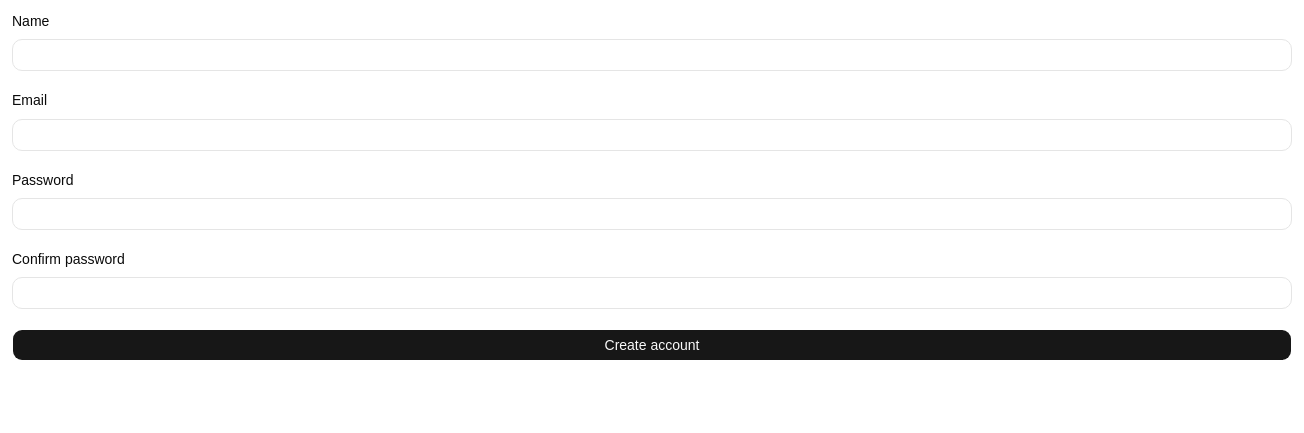
SignUpForm › rejects short and mismatched passwords
Type "Ada" into the field labelled "Name". click: (652,55)
box: [12, 39, 1292, 71]
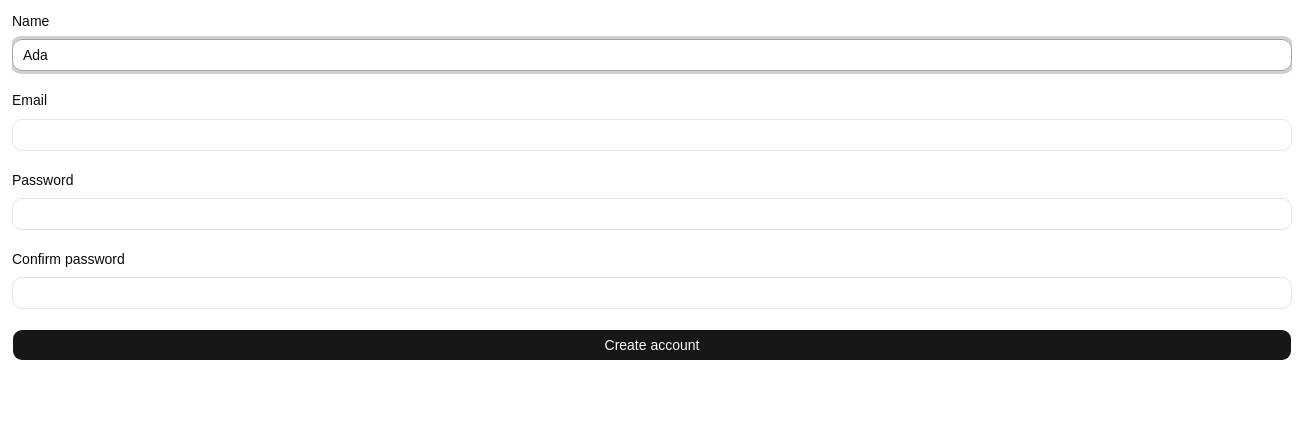
Type "ada@example.com" into the field labelled "Email". click: (652,134)
box: [12, 118, 1292, 150]
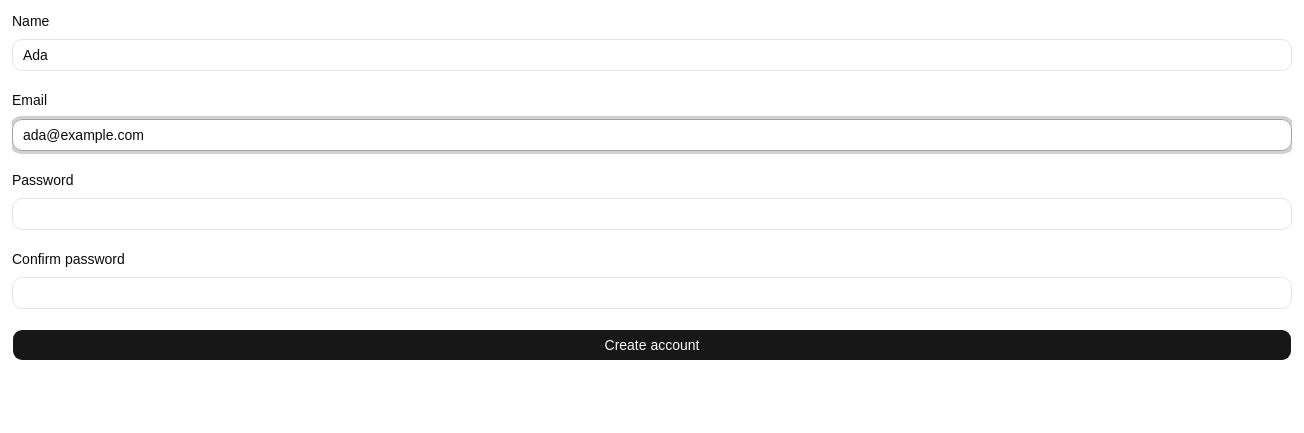
Type "short" into the password field labelled "Password". click: (652,214)
box: [12, 198, 1292, 230]
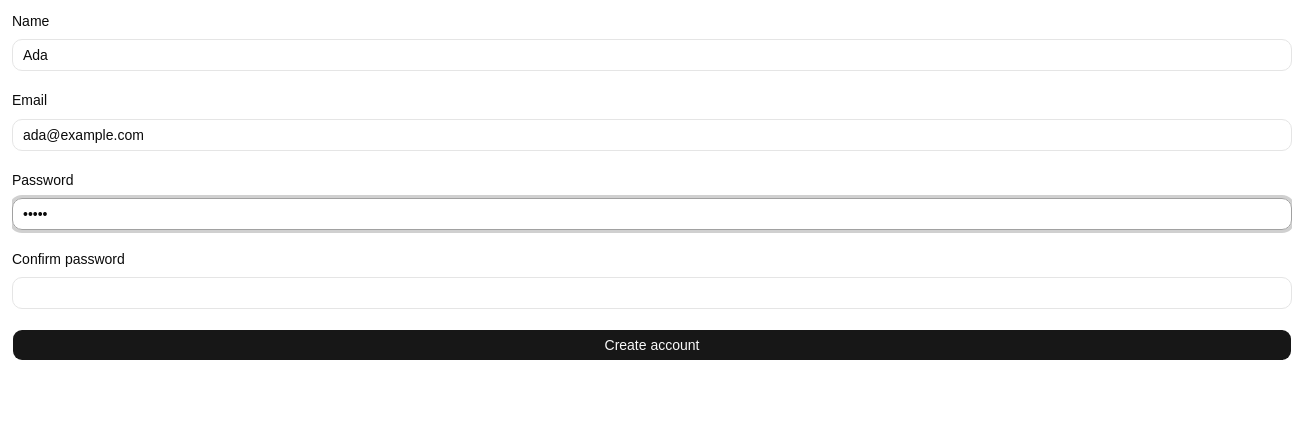
Type "other" into the password field labelled "Confirm password". click: (652,293)
box: [12, 277, 1292, 309]
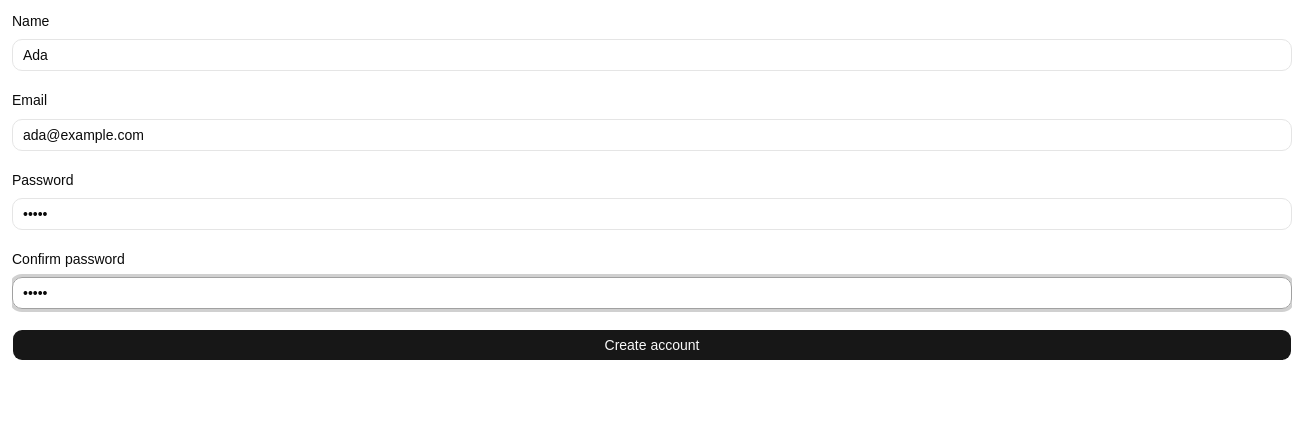
Click the button "Create account". click: (652,345)
box: [12, 329, 1292, 361]
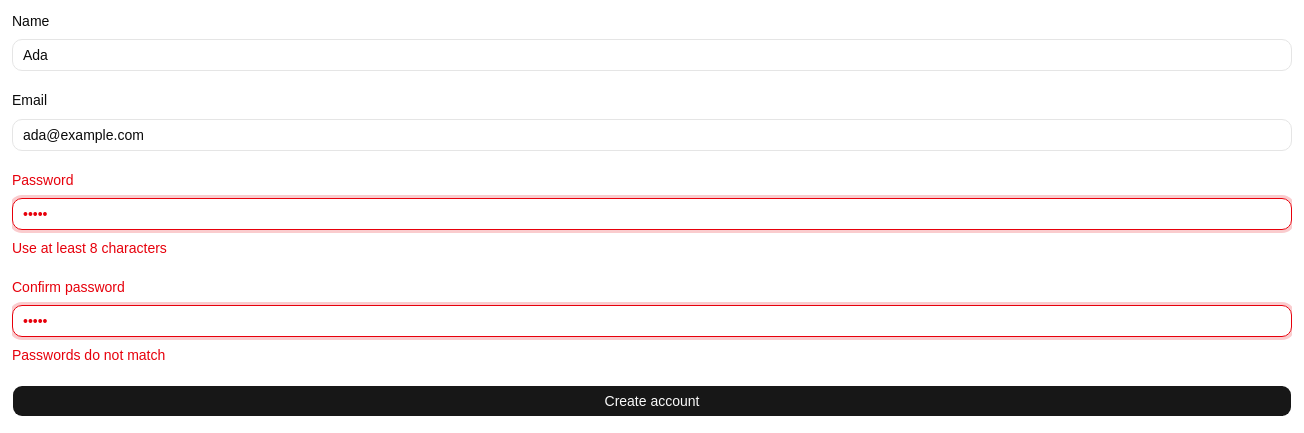
Now the text "Use at least 8 characters" is shown, box [12, 240, 167, 256]
Now the text "Passwords do not match" is shown, box [12, 347, 165, 363]
